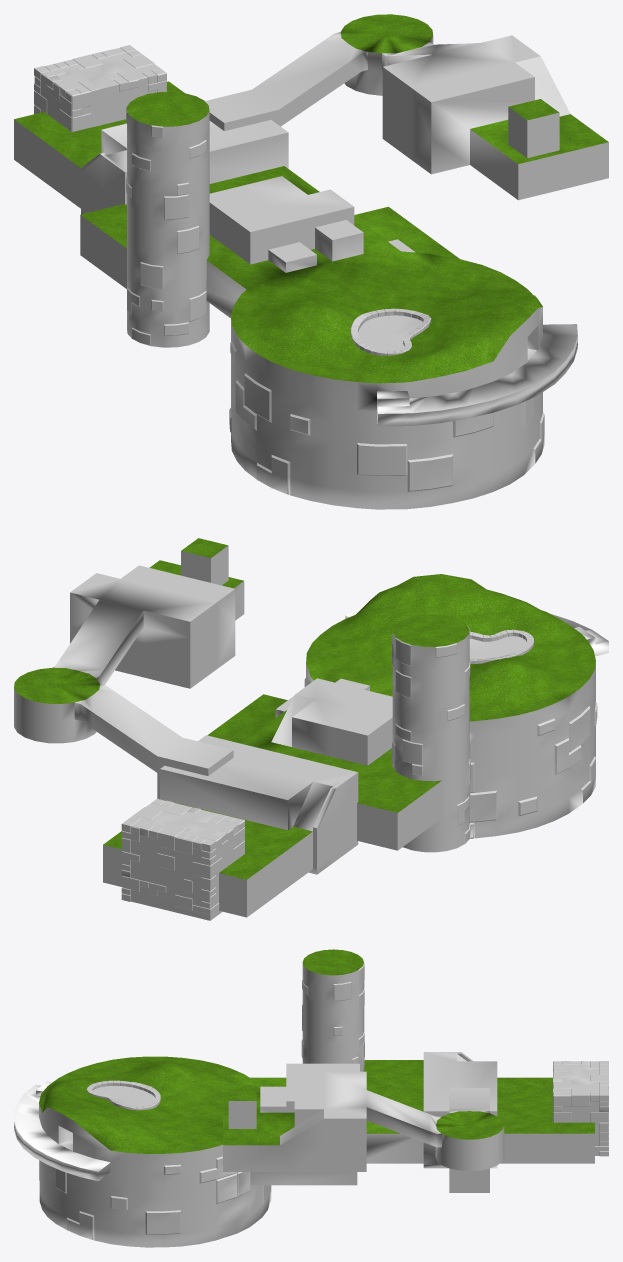
File: SM_world_1_01.fbx
The picture shows the model from 3 angles, top to bottom: view 1: azimuth 30°, elevation 25°; view 2: azimuth 150°, elevation 25°; view 3: azimuth 270°, elevation 25°; orthographic projection. The views are drawn at different scales.
Visible parts, largest first — view 1: Main_mesh; view 2: Main_mesh; view 3: Main_mesh.
Boxes of the visible parts, box(x1,y1,x2,y2) form: Main_mesh: box(14, 14, 608, 509); Main_mesh: box(14, 538, 608, 920); Main_mesh: box(14, 949, 608, 1247).
Size of the model in its own units: 93.84 by 161 by 60.05.
